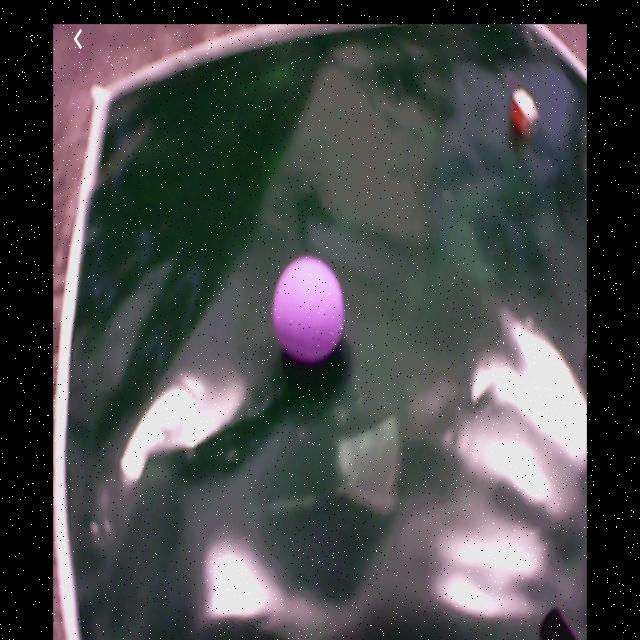ball: (274, 258, 345, 363)
